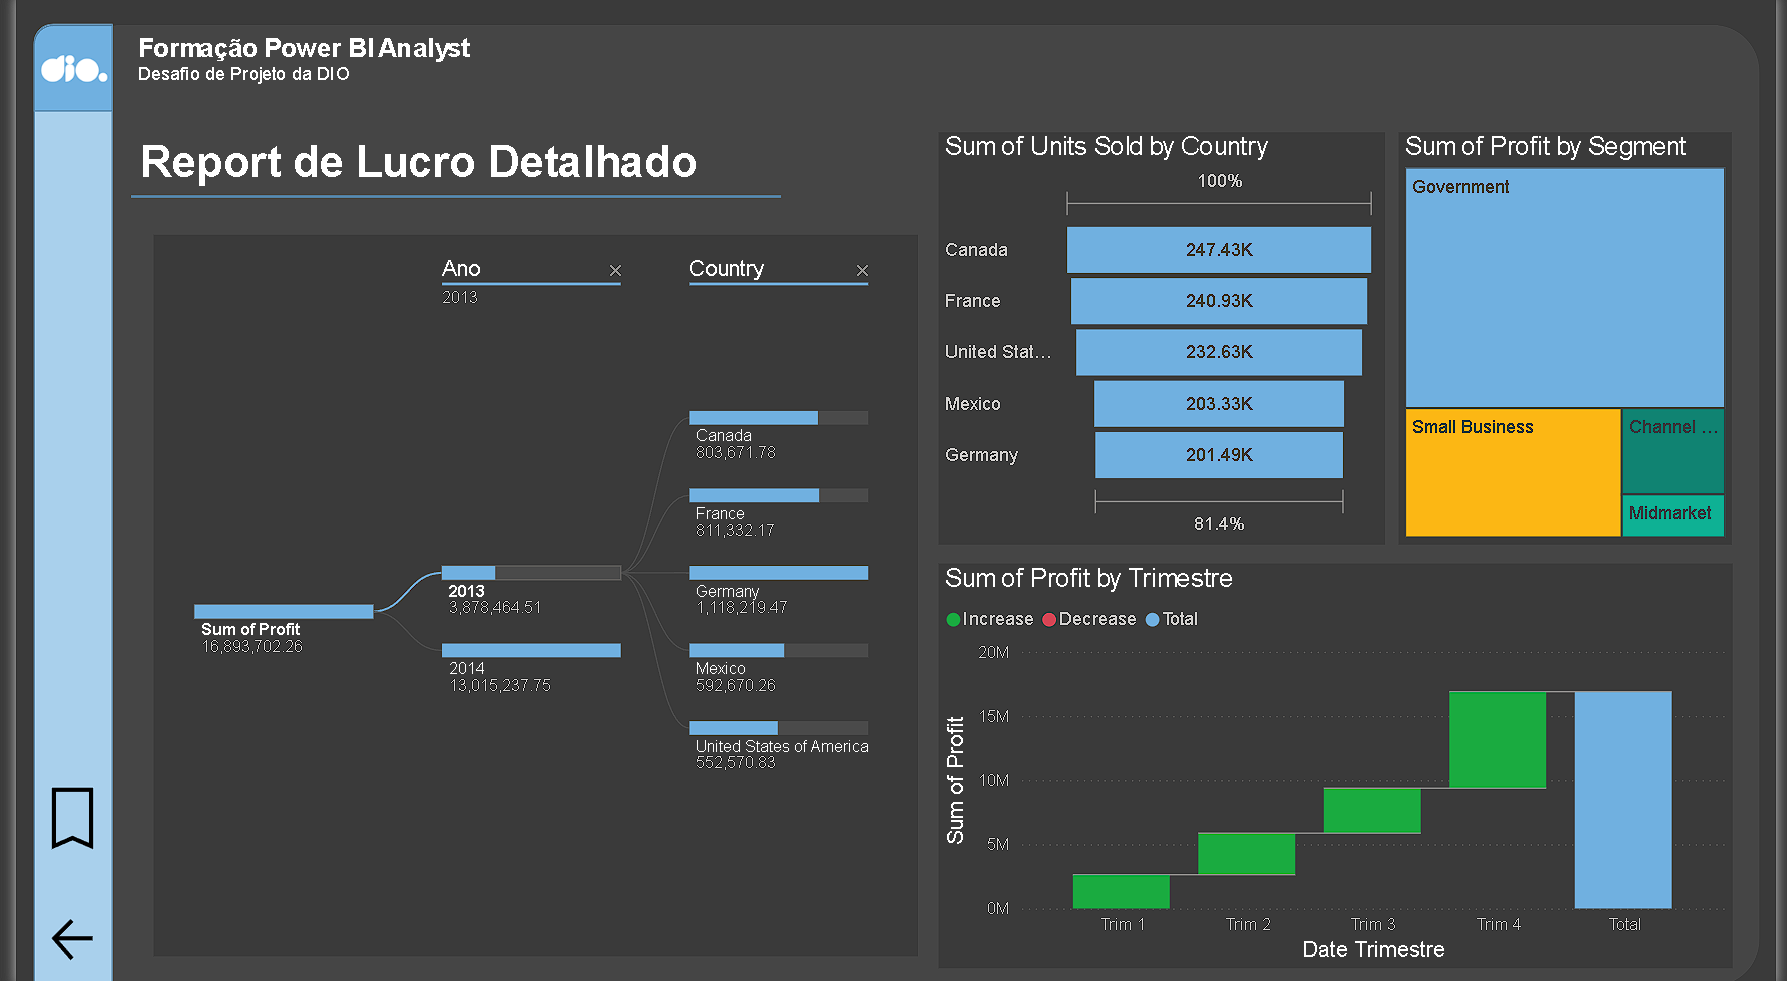

What the dashboard file says about the page in this screenshot:
{"tool":"powerbi","page":{"name":"Página 2","canvas":[1280,720],"ordinal":1},"visuals":[{"type":"shape","box":[42.6,20.7,1225.3,699.3],"z":0},{"type":"shape","box":[83.9,127.8,473,37.1],"z":0,"group":"g1"},{"type":"textbox","box":[85.3,97.6,470.2,52.2],"z":1000,"group":"g1"},{"type":"shape","box":[12.4,20.2,57.7,699.8],"z":1000},{"type":"shape","box":[12.4,20.6,57.7,63.2],"z":2000},{"type":"image","box":[13.7,33,57.7,39.9],"z":3000},{"type":"textbox","title":"Título do report","box":[83.9,22,378.1,63.2],"z":5000},{"type":"decompositionTreeVisual","fields":{"Analyze":["Sum(financials.Profit)"],"ExplainBy":["financials.Date.Variation.Hierarquia de datas.Ano","financials.Country"]},"box":[100,173.8,555.8,524.8],"z":7000},{"type":"waterfallChart","fields":{"Category":["financials.Date.Variation.Hierarquia de datas.Trimestre"],"Y":["Sum(financials.Profit)"]},"box":[670.9,412.5,577.4,294.2],"z":8000},{"type":"treemap","fields":{"Values":["Sum(financials.Profit)"],"Group":["financials.Segment"]},"box":[1005.6,98.8,242.8,299.9],"z":11000},{"type":"actionButton","box":[22,666.8,48.1,39.9],"z":12000},{"type":"group","id":"g1","title":"Sales report","box":[83.9,97.6,473,67.4],"z":13000},{"type":"actionButton","box":[12.8,545.8,57,105.5],"z":14000},{"type":"funnel","fields":{"Category":["financials.Country"],"Y":["Sum(financials.Units Sold)"]},"box":[671.2,98.8,324.9,299.9],"z":14001}]}

Visuals, with their boxes on the page's 1280x720 design canvas (x1, y1, x2, y2). These are canvas units, not pixel positions in the 1787x981 screenshot, which may show the page scaled, cropped or inside an application window:
shape: region(43, 21, 1268, 720)
shape: region(84, 128, 557, 165)
textbox: region(85, 98, 556, 150)
shape: region(12, 20, 70, 720)
shape: region(12, 21, 70, 84)
image: region(14, 33, 71, 73)
"Título do report" textbox: region(84, 22, 462, 85)
decompositionTreeVisual - Sum(financials.Profit) x financials.Date.Variation.Hierarquia de datas.Ano: region(100, 174, 656, 699)
waterfallChart - financials.Date.Variation.Hierarquia de datas.Trimestre x Sum(financials.Profit): region(671, 412, 1248, 707)
treemap - Sum(financials.Profit) x financials.Segment: region(1006, 99, 1248, 399)
actionButton: region(22, 667, 70, 707)
"Sales report" group: region(84, 98, 557, 165)
actionButton: region(13, 546, 70, 651)
funnel - financials.Country x Sum(financials.Units Sold): region(671, 99, 996, 399)
